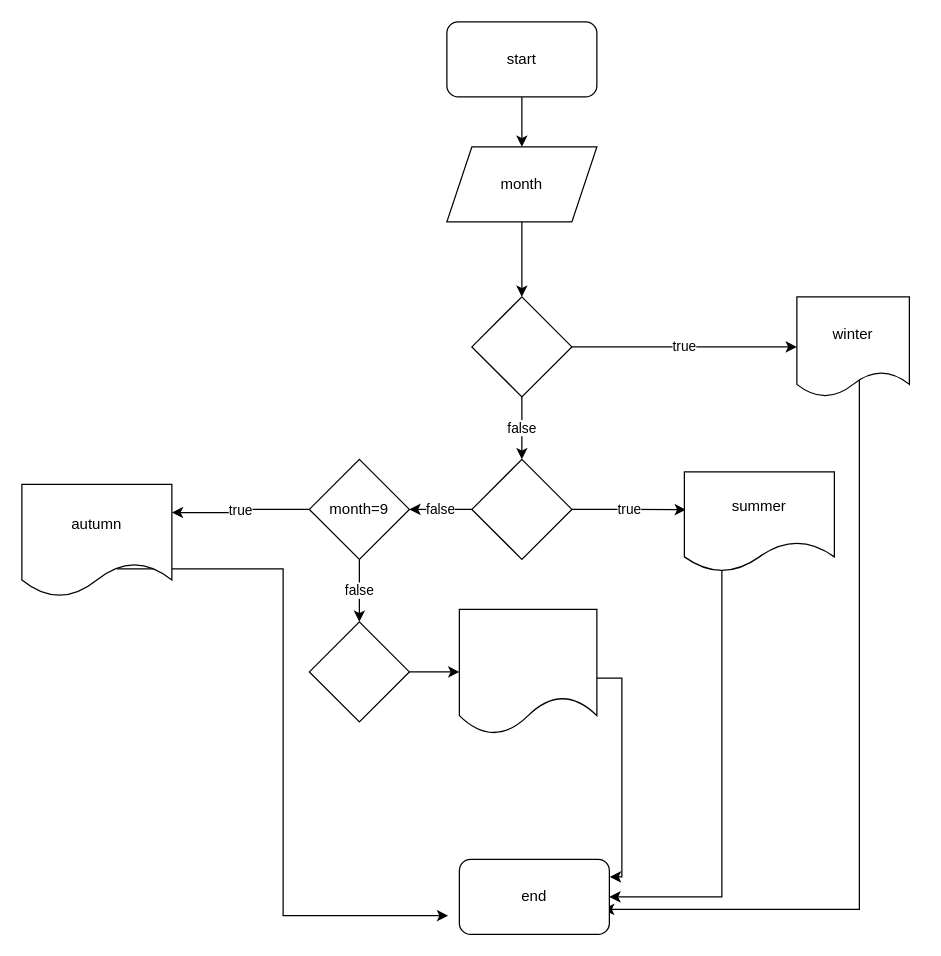
Image size: 941x956. Some labels were removed from this diagram. The shapes that lost their labels are listed below. From the top down, each one's centre as x and y in pixels, then its label:
At [521,346]: "month==12".
At [521,508]: "month==8".
At [358,671]: "month=5".
At [527,671]: "spring".
